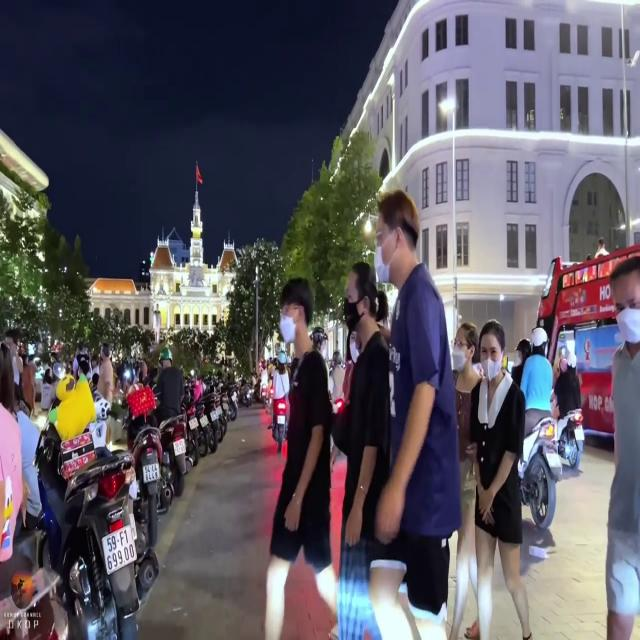bien_trang: (98, 518, 138, 582), (139, 458, 163, 484)
